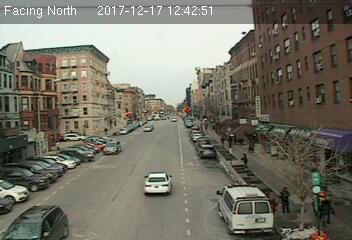car: (142, 172, 172, 196), (102, 140, 122, 156), (199, 145, 217, 159)
police: (214, 181, 274, 237)
